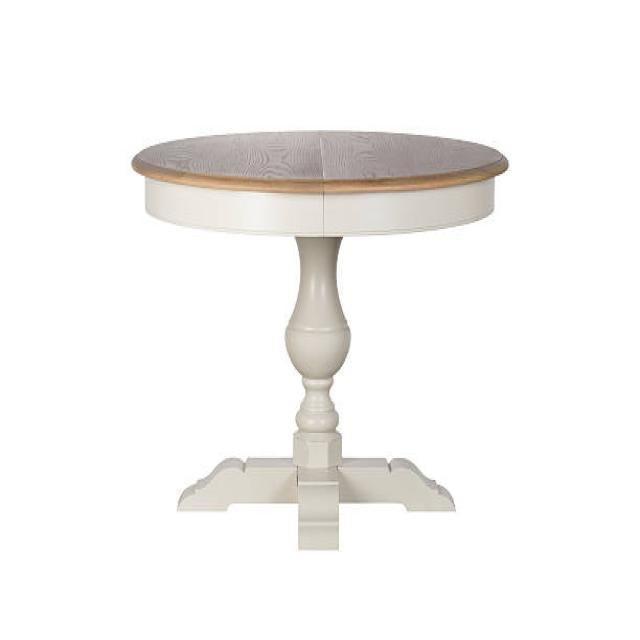table: (130, 128, 508, 550)
